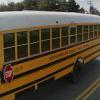Bus: (3, 6, 99, 92)
